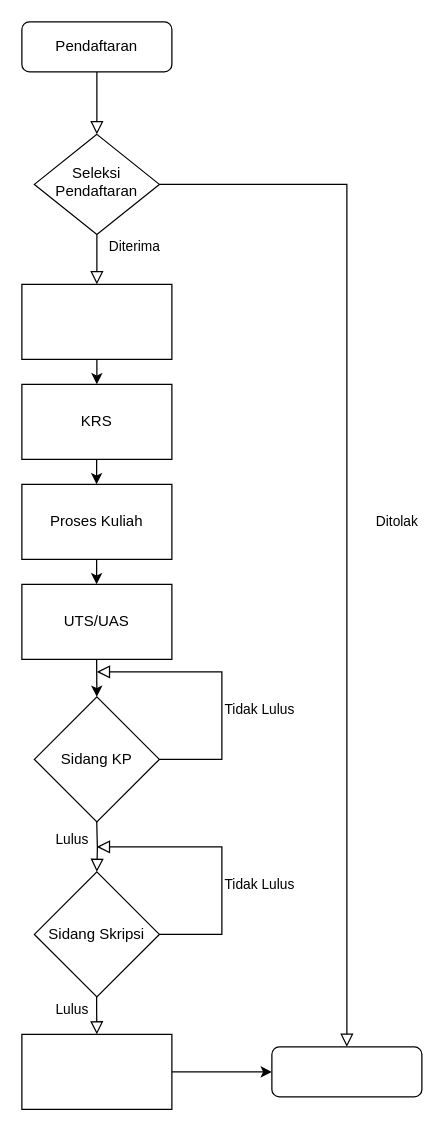
Image size: 444x1131. Some labels were removed from this diagram. Here are the shapes that lost their labels. From the top down, the centre of each, then its label:
point 96,321: Daftar Ulang
point 96,1071: Wisuda
point 346,1071: Selesai
